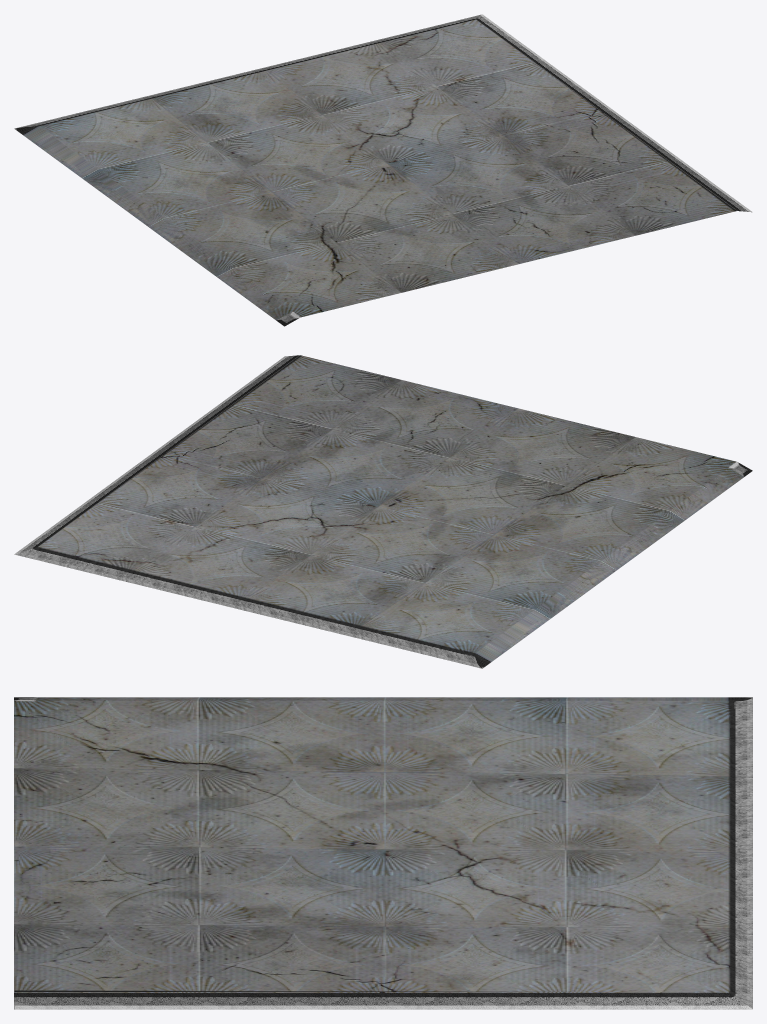
Rendered from plafond3.obj.
The picture shows the model from 3 angles, top to bottom: view 1: azimuth 30°, elevation 25°; view 2: azimuth 150°, elevation 25°; view 3: azimuth 270°, elevation 25°; orthographic projection. The views are drawn at different scales.
Parts seen in each view (by area): view 1: Cube; view 2: Cube; view 3: Cube.
Part boxes in pixels (x1,y1,x2,y2): Cube: (14,14,752,326); Cube: (14,355,752,668); Cube: (14,697,752,1009).
Bounding box in the file's own units: 4.51 × 0.0479 × 4.51.
Materials: 1 (1 with a texture image).
